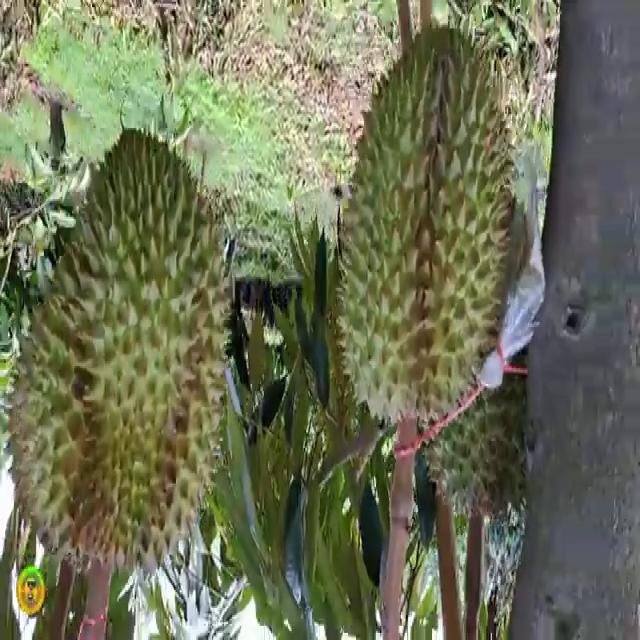durian: (4, 116, 234, 584), (331, 23, 519, 433)
